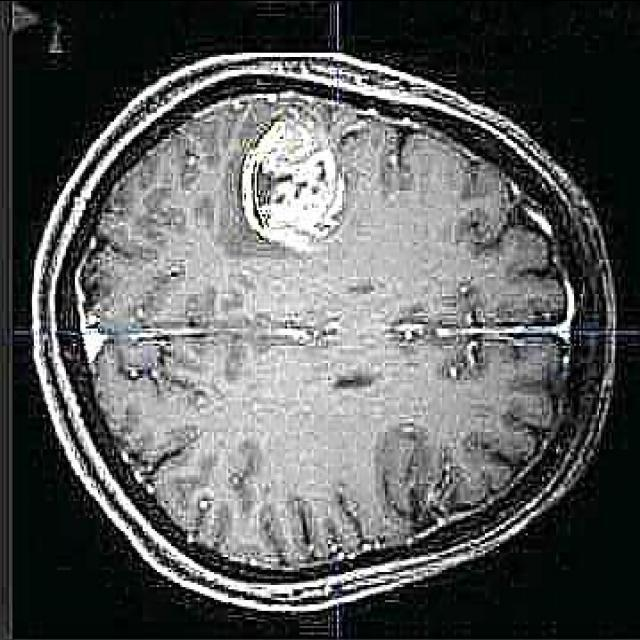tumor: (234, 103, 351, 254)
